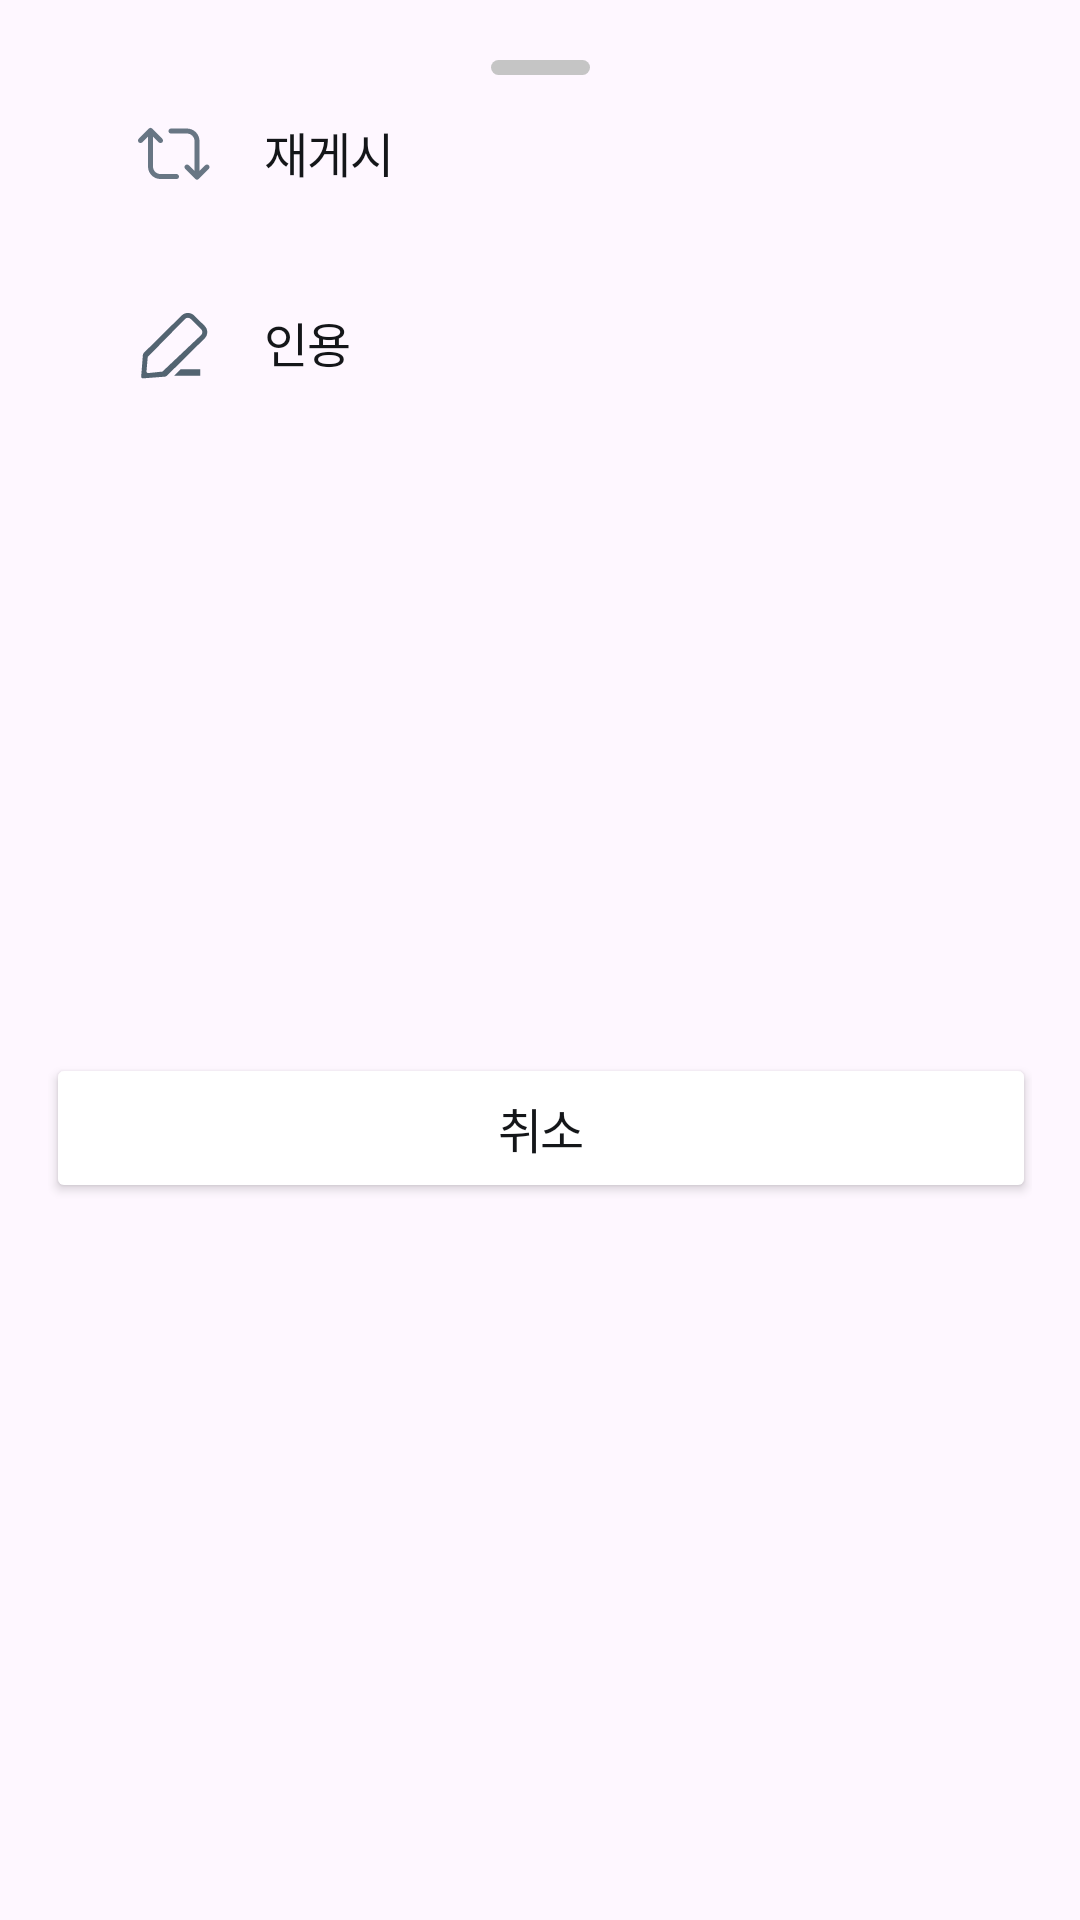

Icon bounding boxes for this 1080*1920 phone screenshot, format bbox=[x1, y1, x2, y2]:
pen: bbox=[141, 313, 208, 379]
retweet: bbox=[138, 128, 210, 180]
